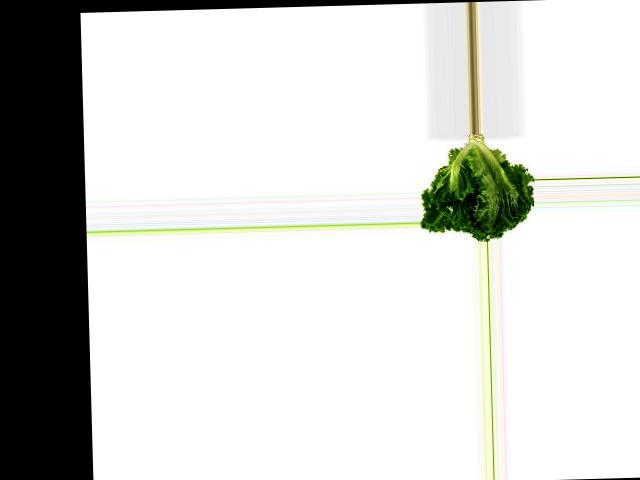lettuce: (419, 132, 535, 242)
